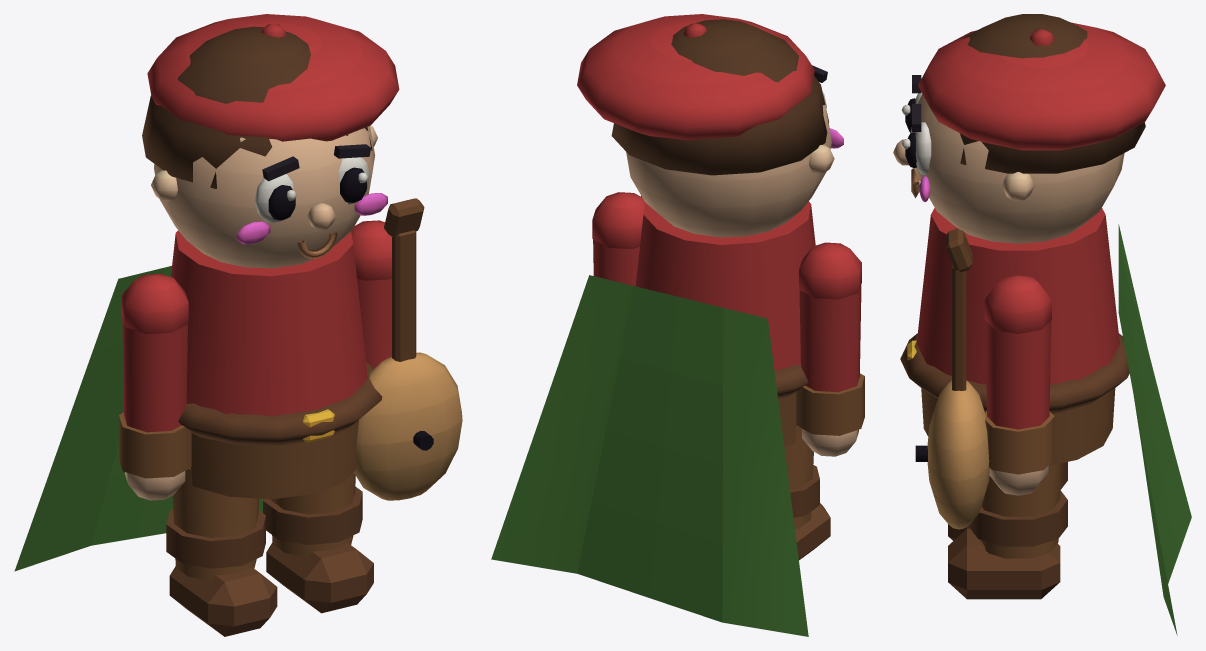
The model's file is hero_lyric.glb.
3 renders of one model, left to right at view 1: azimuth 30°, elevation 25°; view 2: azimuth 150°, elevation 25°; view 3: azimuth 270°, elevation 25°, orthographic. The views are drawn at different scales.
Parts seen in each view (by area): view 1: body_t0_palette, armr_t0_palette, arml_t0_palette, legl_t0_palette, legr_t0_palette; view 2: body_t0_palette, arml_t0_palette, armr_t0_palette, legl_t0_palette; view 3: body_t0_palette, armr_t0_palette, legr_t0_palette.
Part boxes in pixels (x1,y1,x2,y2): body_t0_palette: (14,14,399,571); armr_t0_palette: (351,198,462,500); arml_t0_palette: (119,273,191,500); legl_t0_palette: (166,468,277,636); legr_t0_palette: (263,472,373,613); body_t0_palette: (491,14,843,636); arml_t0_palette: (796,242,864,456); armr_t0_palette: (592,192,645,286); legl_t0_palette: (784,426,830,560); body_t0_palette: (893,14,1191,635); armr_t0_palette: (915,228,1054,529); legr_t0_palette: (948,463,1067,599).
Size of the model in its own units: 0.32 by 0.512 by 0.253.
